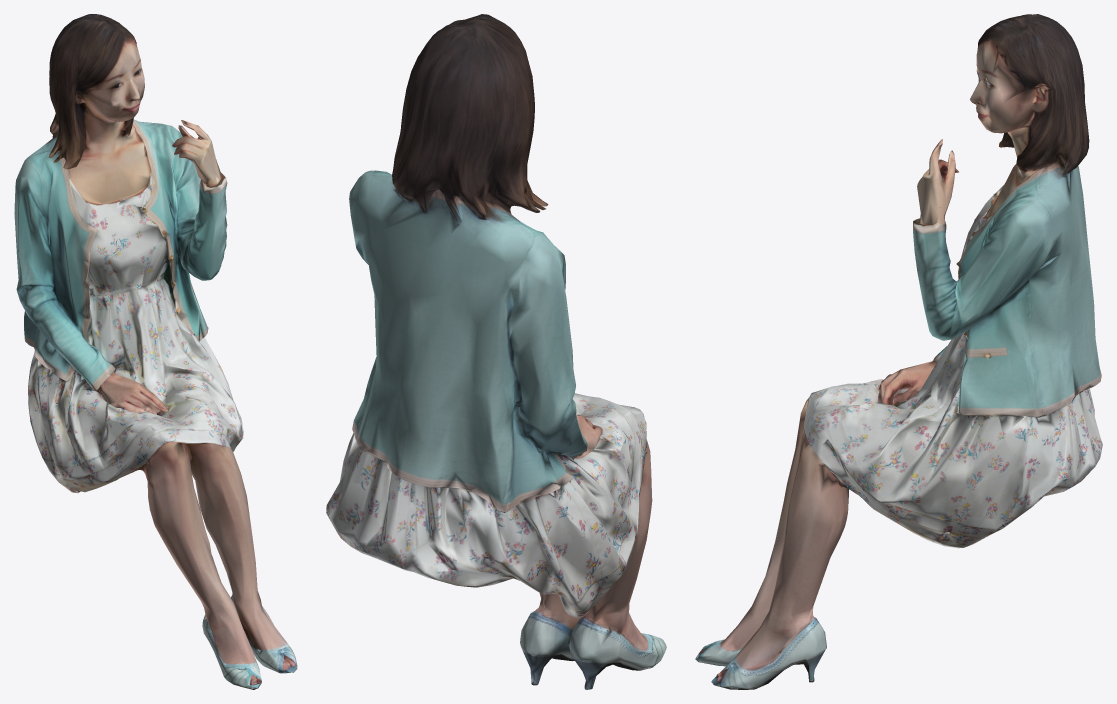
Rendered from MUJER2.obj.
The picture shows the model from 3 angles, left to right: view 1: azimuth 30°, elevation 25°; view 2: azimuth 150°, elevation 25°; view 3: azimuth 270°, elevation 25°; orthographic projection. The views are drawn at different scales.
Visible parts, largest first — view 1: _W_Aya_10K:_W_Aya_100K_01; view 2: _W_Aya_10K:_W_Aya_100K_01; view 3: _W_Aya_10K:_W_Aya_100K_01.
Part boxes in pixels (left/top/right/bottom): _W_Aya_10K:_W_Aya_100K_01: left=14, top=14, right=297, bottom=689; _W_Aya_10K:_W_Aya_100K_01: left=326, top=14, right=666, bottom=689; _W_Aya_10K:_W_Aya_100K_01: left=695, top=14, right=1102, bottom=689.
Bounding box in the file's own units: 3.17 × 9.87 × 5.74.
